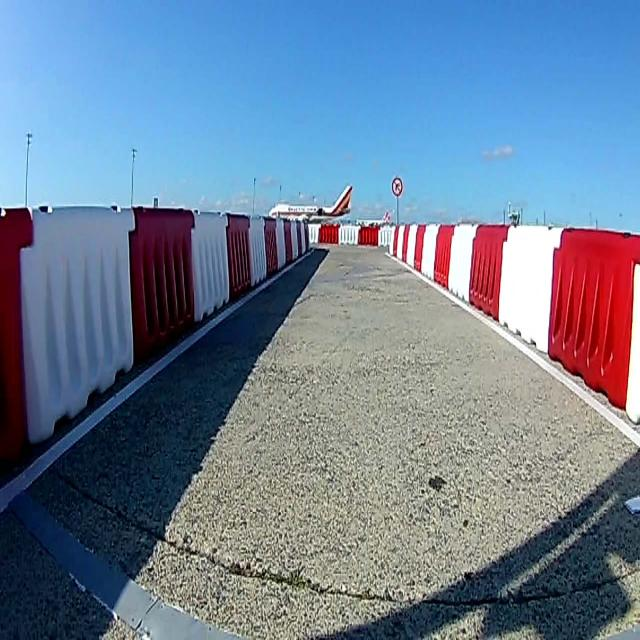sagadonulmez: (392, 177, 404, 196)
